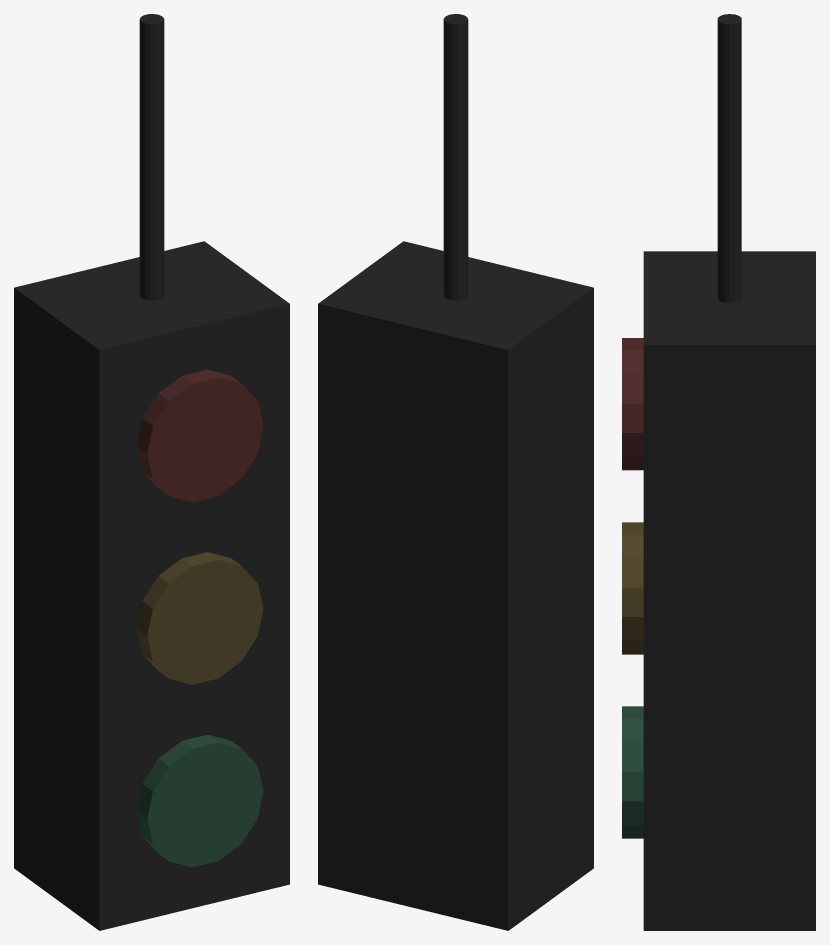
Rendered from traffic_light.glb.
3 renders of one model, left to right at view 1: azimuth 30°, elevation 25°; view 2: azimuth 150°, elevation 25°; view 3: azimuth 270°, elevation 25°, orthographic.
Parts seen in each view (by area): view 1: Trim, LampR, LampG, LampY; view 2: Trim; view 3: Trim, LampR, LampY, LampG.
Boxes of the visible parts, x1,y1,x2,y2 form: Trim: (14, 14, 289, 930); LampR: (136, 369, 263, 502); LampG: (136, 734, 263, 867); LampY: (136, 552, 263, 684); Trim: (318, 14, 593, 930); Trim: (643, 14, 815, 930); LampR: (622, 338, 643, 470); LampY: (622, 522, 643, 654); LampG: (622, 706, 643, 838).
Size of the model in its own units: 0.36 by 1.55 by 0.315.
